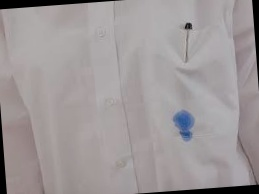ink: (173, 108, 196, 144)
